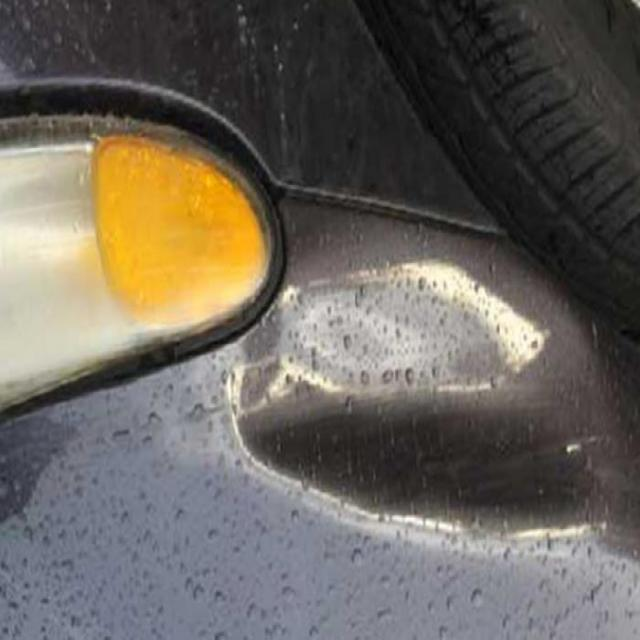dent: (220, 221, 632, 604)
